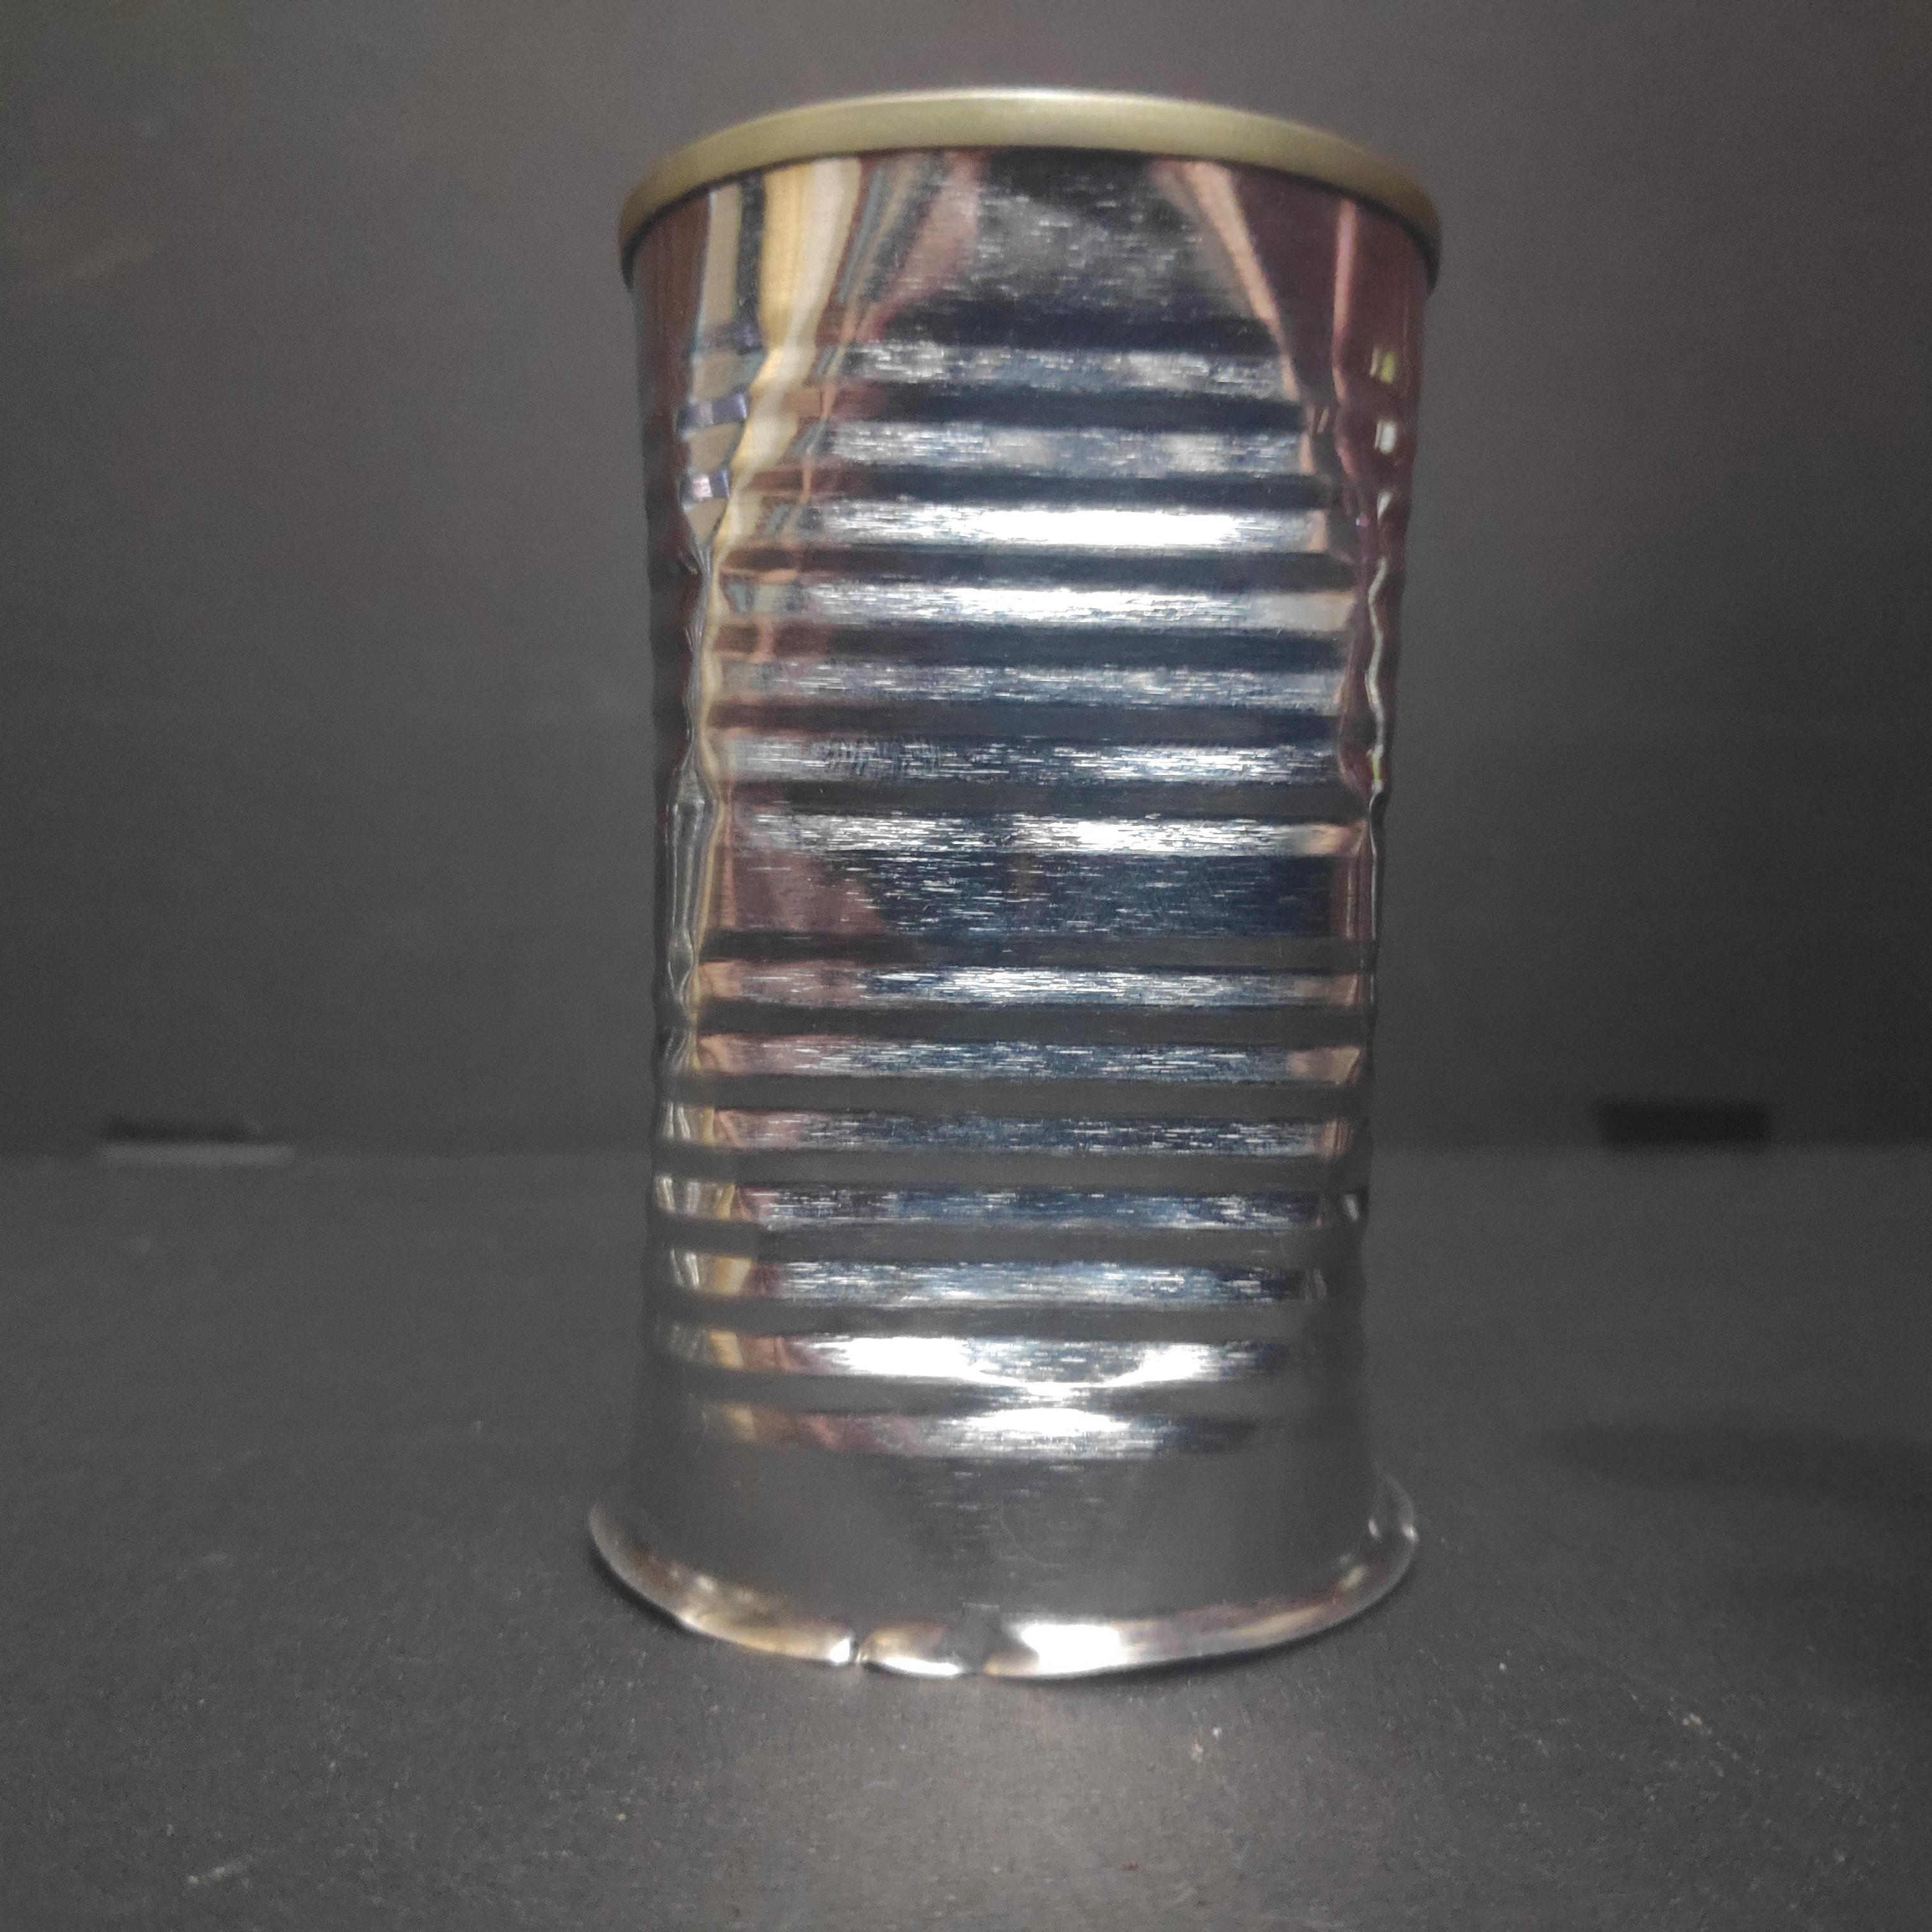Dented: (591, 64, 1447, 1671)
